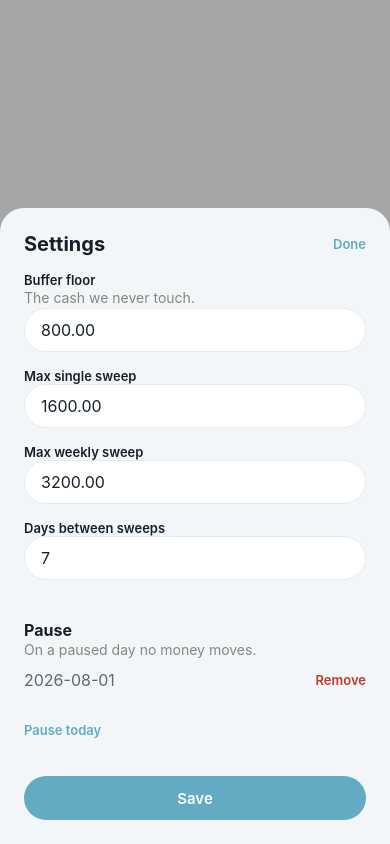
Scenario: the settings screen › lists an existing pause and removes it
This screenshot has width=390, height=844.
expect the button with test id "settings-save" is shown: met, box 24,776 -> 366,820
expect the element with test id "pause-2026-08-01" is shown: met, box 24,670 -> 366,690
Click the button with test id "pause-remove-2026-08-01". click: click(341, 680)
box: 316,672 -> 366,688
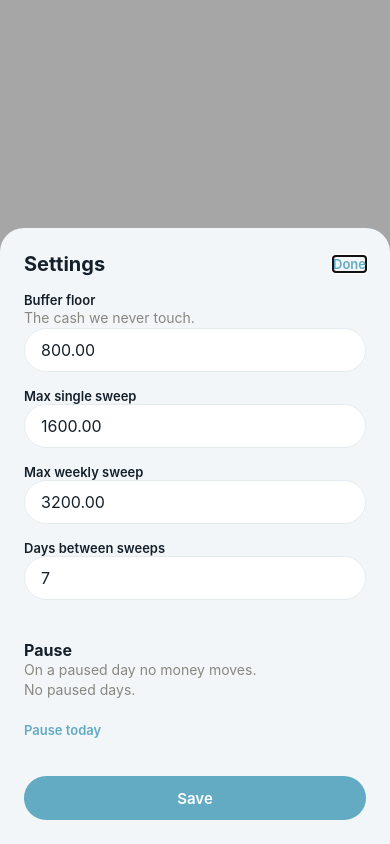
expect the element with test id "pause-2026-08-01" is gone: met
